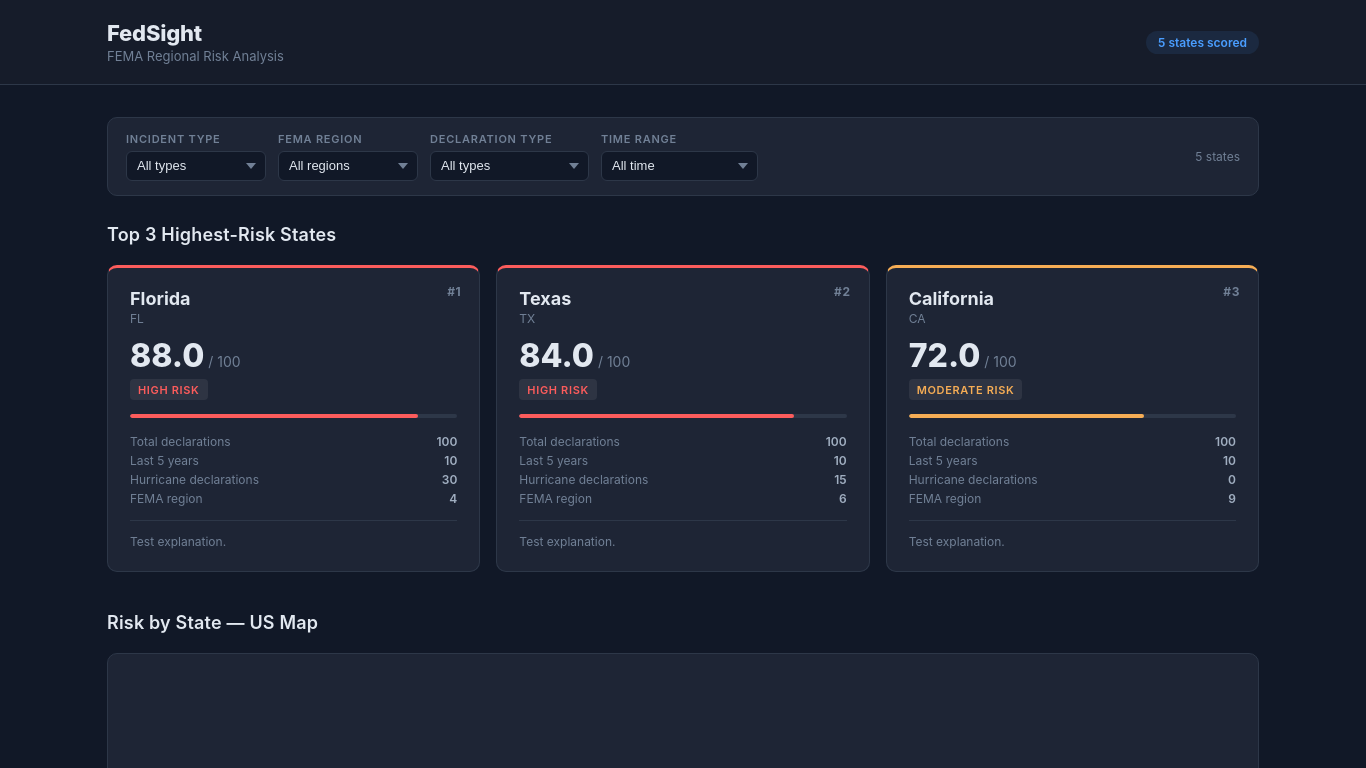
Test: App — filter integration › filtered-out states do not appear in top 3 cards
Expected: the dropdown labelled "Incident type" is shown, 126,151 -> 266,181
Select "Region 4" in the dropdown labelled "FEMA region". click: (348, 166)
box: 278,151 -> 418,181
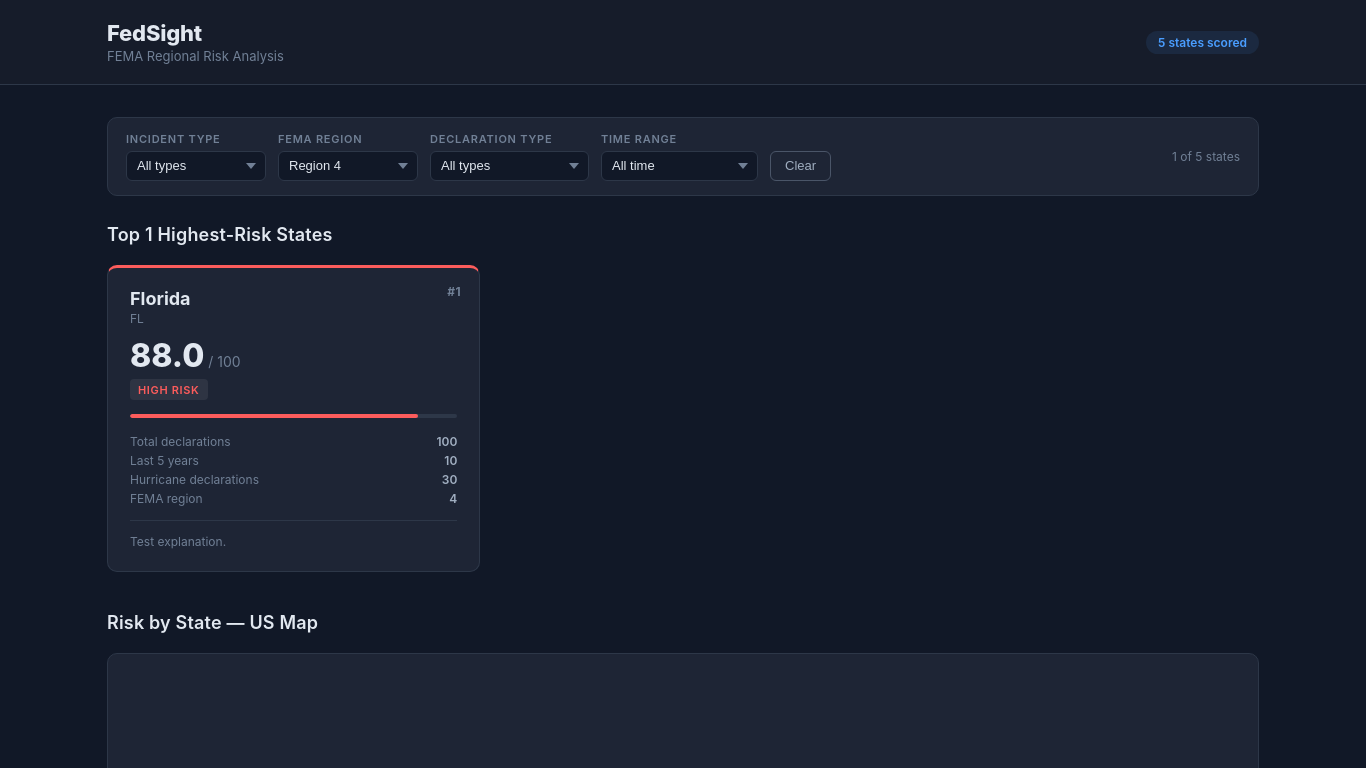
Expected: the text "Florida" is shown, 130,288 -> 191,309
Result: the text "Texas" is gone
Result: the text "California" is gone
